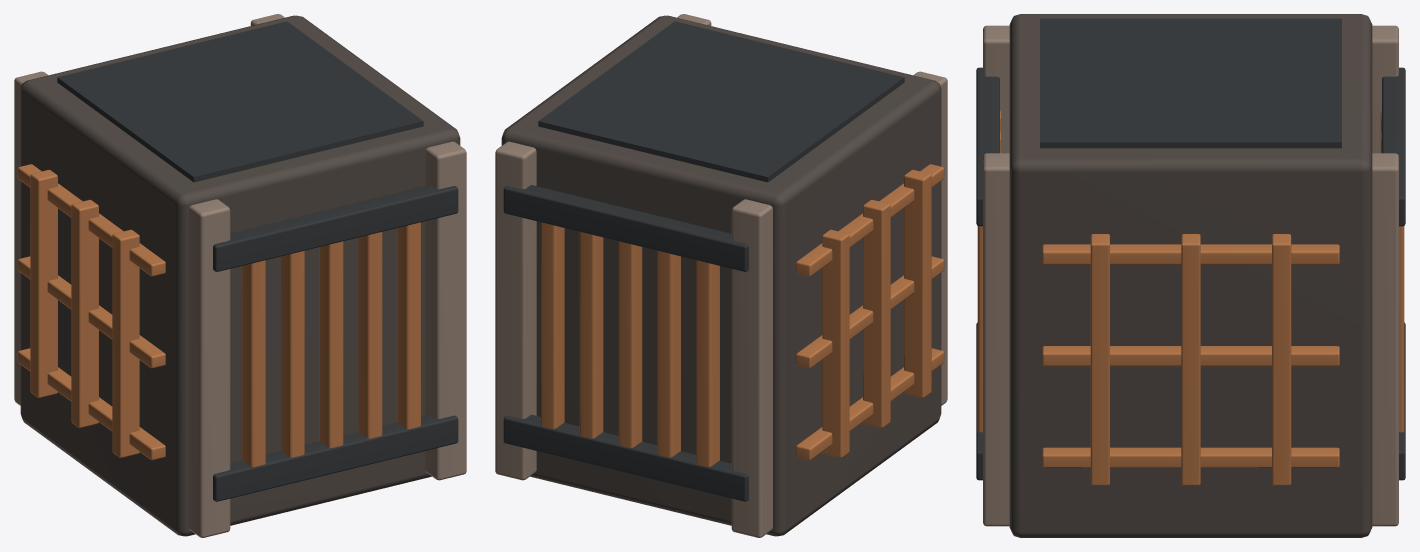
Rendered from refinery-shaft-1.glb.
3 views of the same model, side by side, from view 1: azimuth 30°, elevation 25°; view 2: azimuth 150°, elevation 25°; view 3: azimuth 270°, elevation 25° (orthographic). The views are drawn at different scales.
Parts seen in each view (by area): view 1: refinery_0, refinery_2, refinery_3, refinery_1; view 2: refinery_0, refinery_2, refinery_3, refinery_1; view 3: refinery_0, refinery_2, refinery_3, refinery_1.
Part boxes in pixels (x1,y1,x2,y2): refinery_0: (20,15,460,536); refinery_2: (57,21,458,501); refinery_3: (17,164,420,466); refinery_1: (14,14,466,537); refinery_0: (501,15,941,536); refinery_2: (503,21,904,501); refinery_3: (541,164,944,466); refinery_1: (495,14,947,537); refinery_0: (1009,14,1372,537); refinery_2: (976,18,1405,480); refinery_3: (977,110,1404,485); refinery_1: (983,25,1398,526).
Size of the model in its own units: 0.98 by 1 by 0.995.
